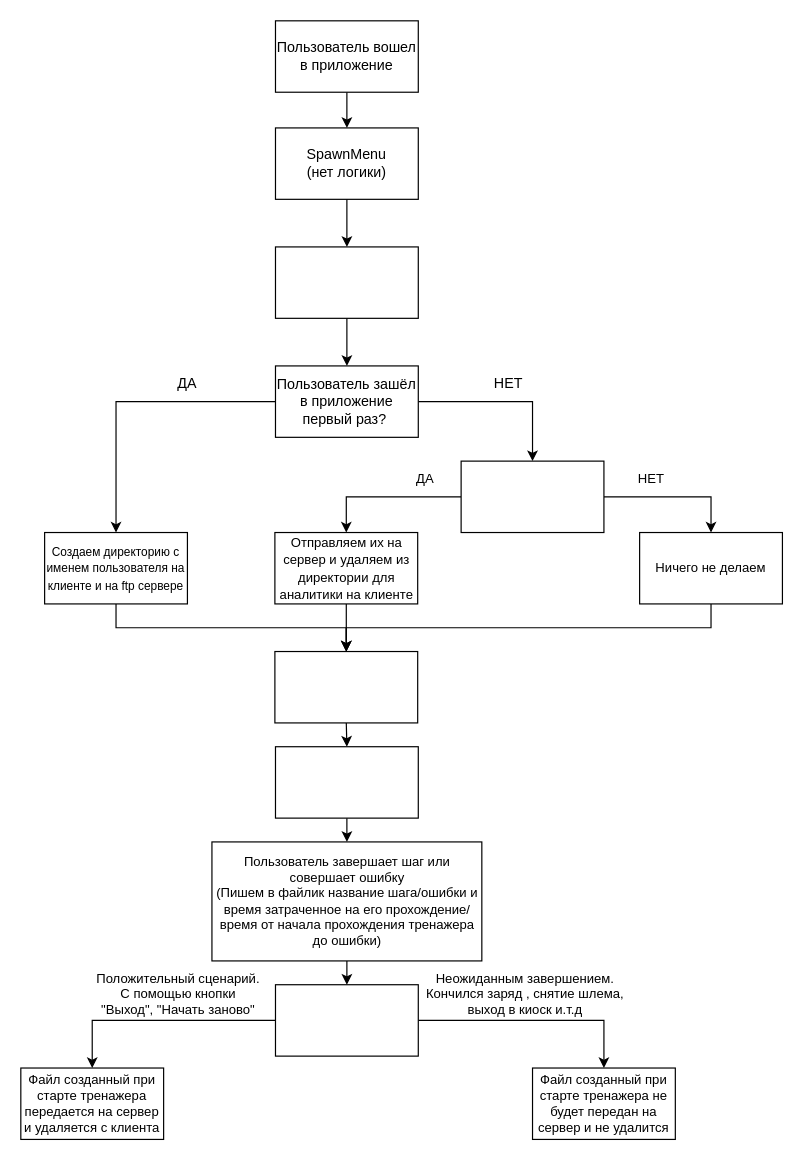
The diagram is 803 pixels wide and 1160 high, and some of its shapes have lost their labels. Here are the shapes that lost their labels. From the top down, the box of each, then its label:
(274, 246, 418, 318): MainScene
(460, 460, 604, 533): Есть ли на клиенте файлы в директории для аналитики?
(274, 650, 418, 723): Пользователь переходит в конкретный тренажер (Нет логики)
(274, 746, 418, 818): Пользователь выбирает режим прохождения (Создаем файлик для записи)
(274, 984, 418, 1056): Пользователь завершает работу с тренажером
